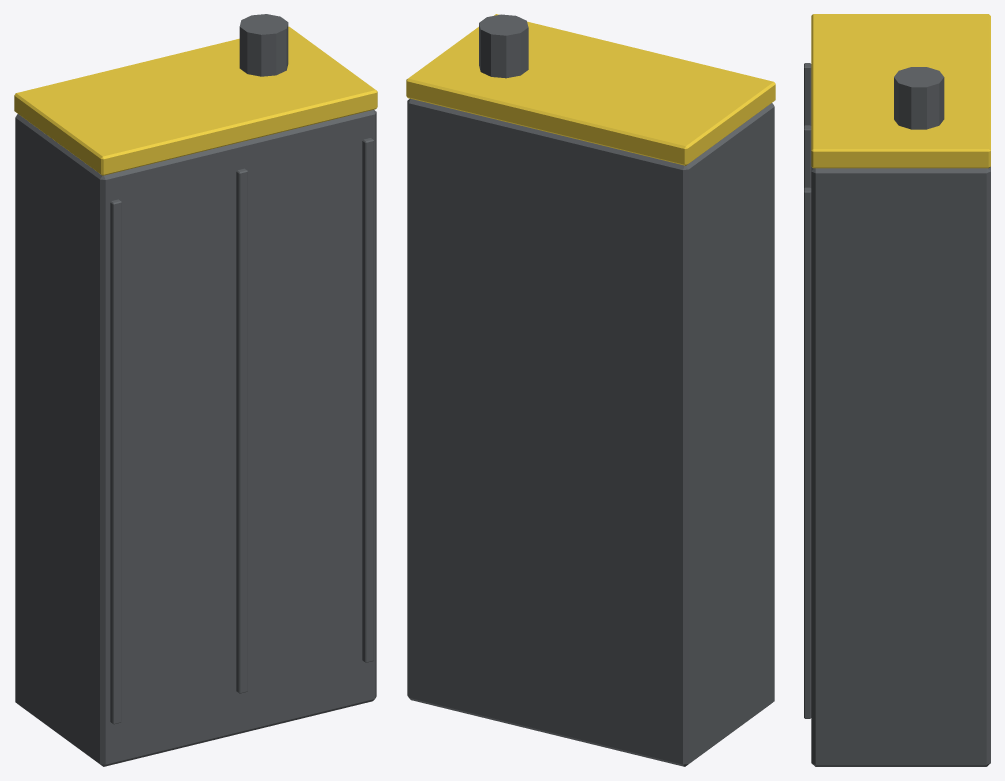
The model's file is chem_cabinet.glb.
The picture shows the model from 3 angles, left to right: view 1: azimuth 30°, elevation 25°; view 2: azimuth 150°, elevation 25°; view 3: azimuth 270°, elevation 25°; orthographic projection.
Parts seen in each view (by area): view 1: chem_cabinet; view 2: chem_cabinet; view 3: chem_cabinet.
Boxes of the visible parts, <box> form: chem_cabinet: <box>14,14,377,766</box>; chem_cabinet: <box>406,14,775,766</box>; chem_cabinet: <box>804,14,990,766</box>.
Bounding box in the file's own units: 0.9 × 2.03 × 0.52.
